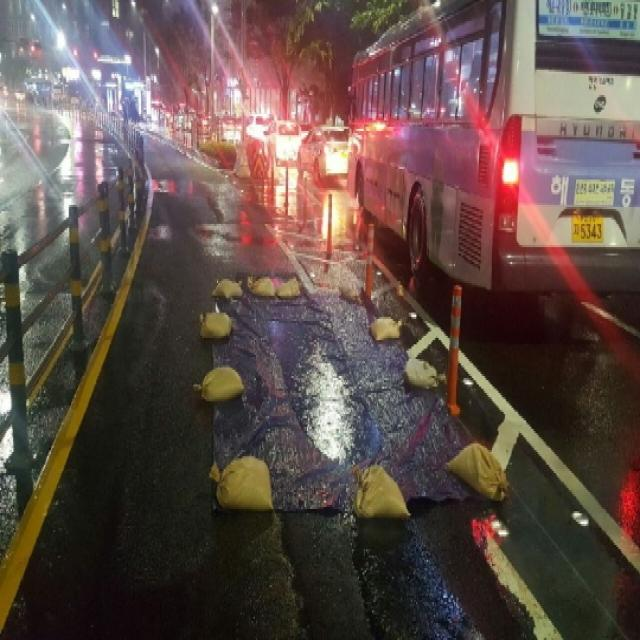pothole: (269, 310, 387, 460)
